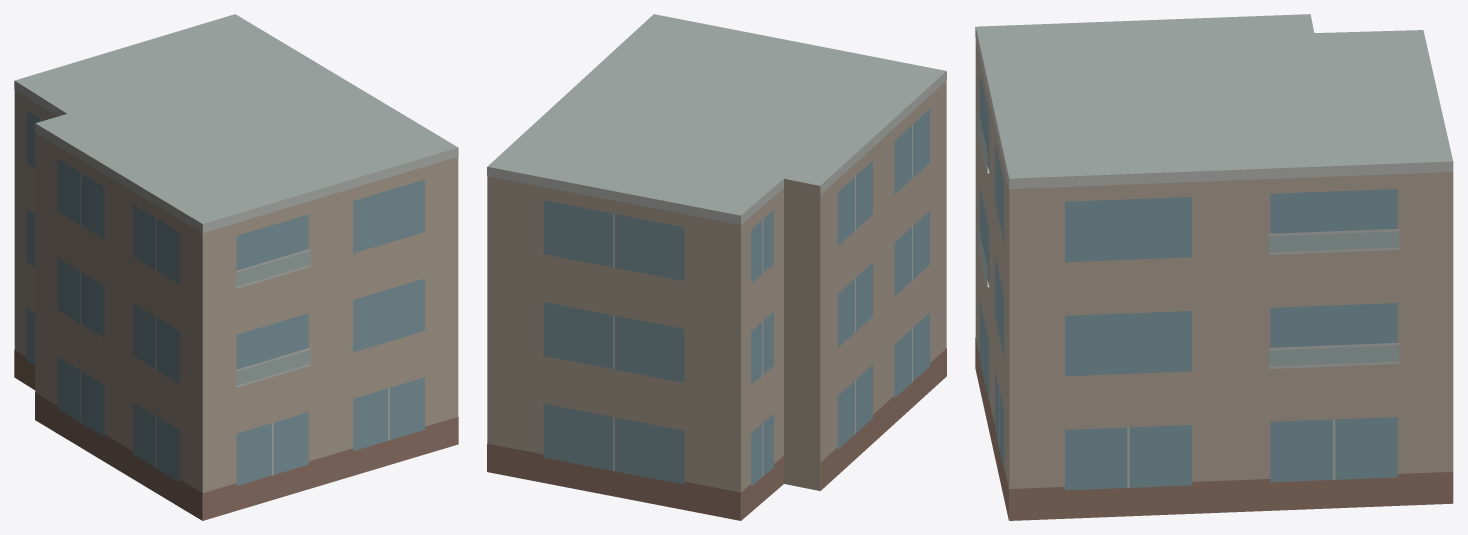
The model's file is survey-upis-32952757.glb.
The picture shows the model from 3 angles, left to right: view 1: azimuth 30°, elevation 25°; view 2: azimuth 150°, elevation 25°; view 3: azimuth 270°, elevation 25°; orthographic projection. The views are drawn at different scales.
Parts seen in each view (by area): view 1: survey-upis-32952757.tmp; view 2: survey-upis-32952757.tmp; view 3: survey-upis-32952757.tmp.
Boxes of the visible parts, bbox=[...] form: survey-upis-32952757.tmp: bbox=[14, 14, 458, 520]; survey-upis-32952757.tmp: bbox=[487, 14, 946, 520]; survey-upis-32952757.tmp: bbox=[975, 14, 1453, 520].
Size of the model in its own units: 8.21 by 7.95 by 10.07.
